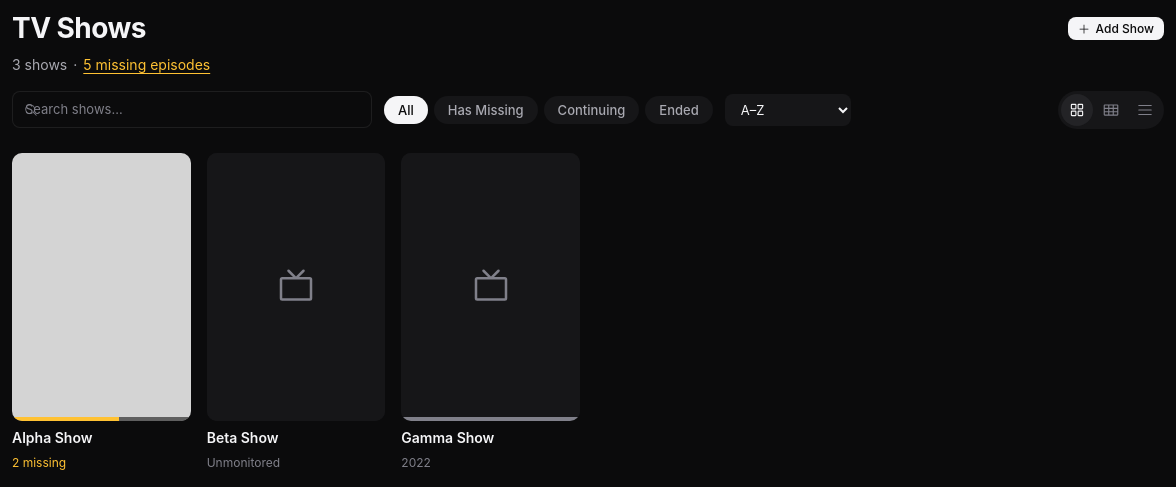
Test: Small view: posters only, accessible name and title are the show title, preference persists (criteria 13, 14)
What coordinates should you click on to do the following:
click the button named "Small posters"
I would click on:
 (1111, 110)
Its box is [1095, 94, 1127, 126].
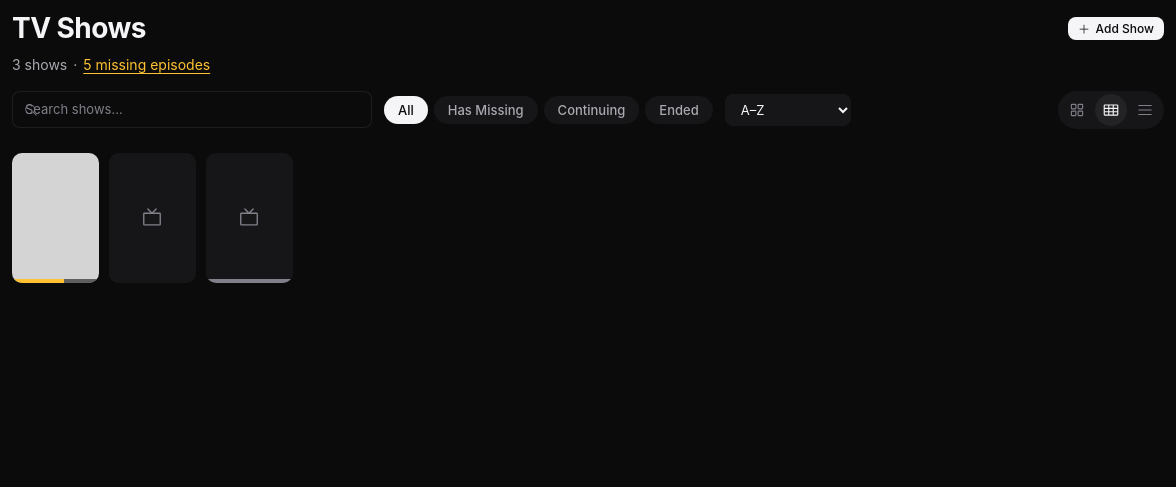
Expected: the list with class "is-small" is shown, [12, 153, 292, 283]
